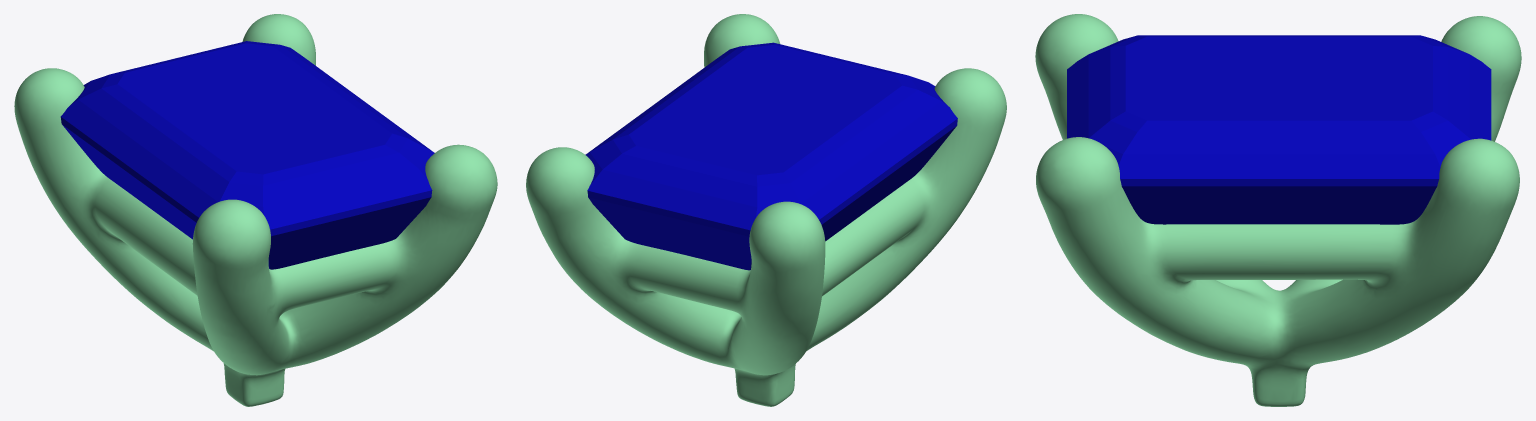
File: Emerald.3dm.glb
The picture shows the model from 3 angles, left to right: view 1: azimuth 30°, elevation 25°; view 2: azimuth 150°, elevation 25°; view 3: azimuth 270°, elevation 25°; orthographic projection. The views are drawn at different scales.
Parts seen in each view (by area): view 1: /Emerald.3dm, Diamond_Emerald; view 2: /Emerald.3dm, Diamond_Emerald; view 3: /Emerald.3dm, Diamond_Emerald.
Boxes of the visible parts, left/top/right/bottom form: /Emerald.3dm: left=14, top=14, right=497, bottom=406; Diamond_Emerald: left=60, top=41, right=434, bottom=269; /Emerald.3dm: left=526, top=14, right=1006, bottom=406; Diamond_Emerald: left=585, top=42, right=957, bottom=270; /Emerald.3dm: left=1035, top=14, right=1521, bottom=406; Diamond_Emerald: left=1067, top=35, right=1491, bottom=224.
Size of the model in its own units: 7.18 by 6.74 by 9.28.
